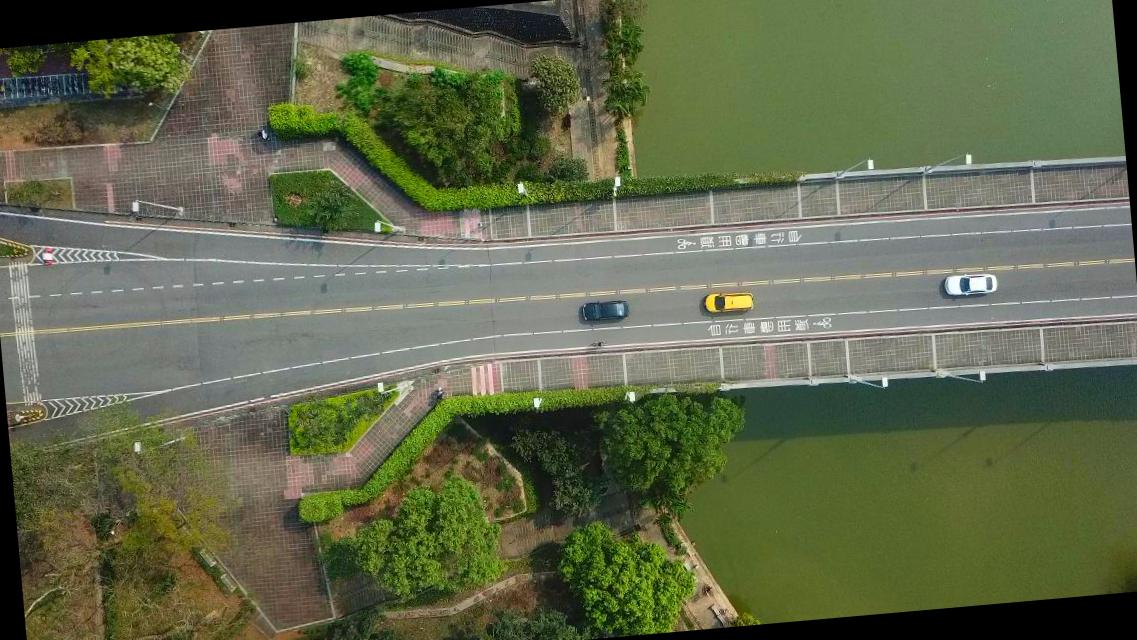vehicle: (943, 272, 998, 298), (701, 289, 754, 315), (580, 299, 630, 324)
